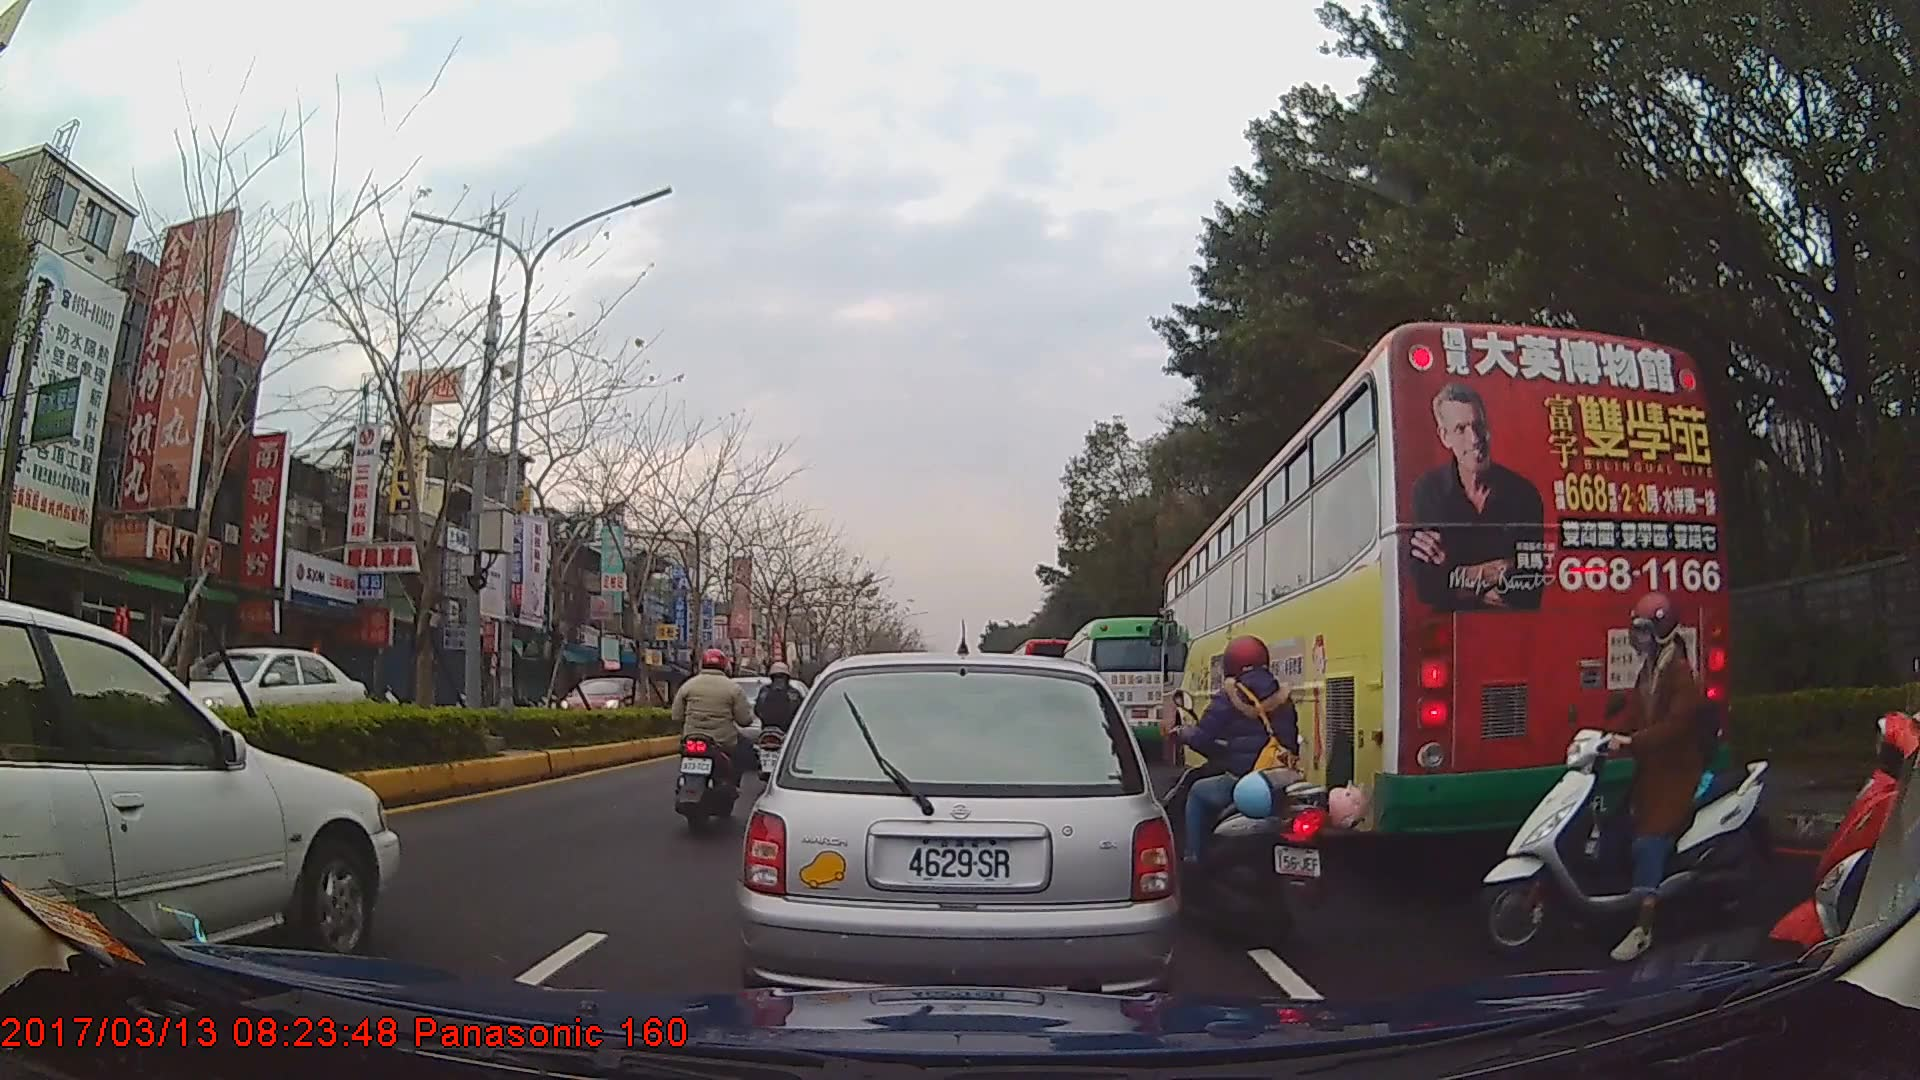rider: (1475, 591, 1767, 958), (1771, 541, 1920, 1006), (1154, 635, 1370, 950), (668, 648, 753, 833), (754, 662, 805, 770)
vehicle: (1159, 319, 1730, 846), (736, 651, 1179, 1003), (0, 599, 401, 965), (145, 640, 372, 743), (1060, 615, 1175, 763), (558, 673, 646, 730)
